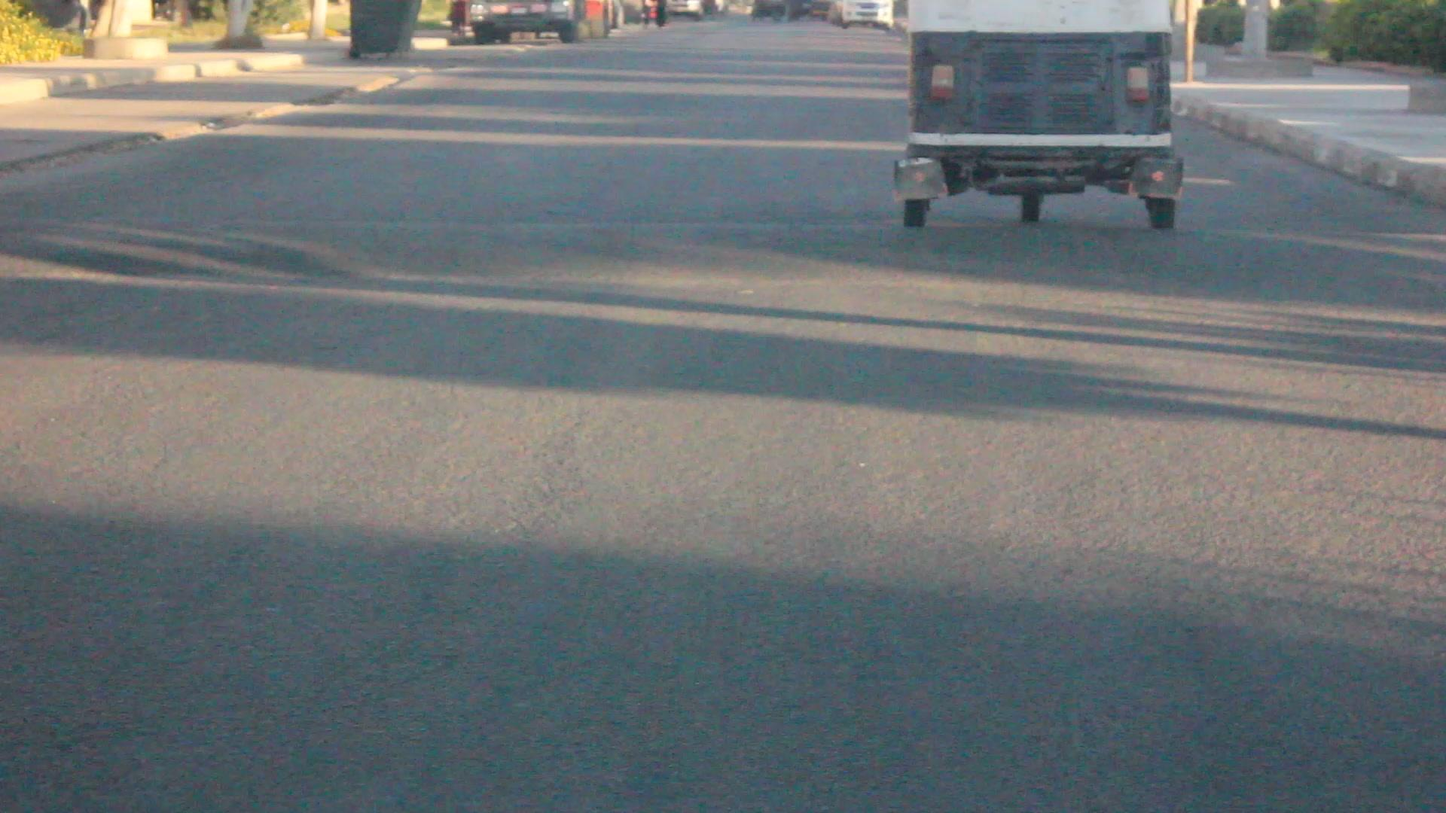Bump: (0, 213, 1446, 327)
